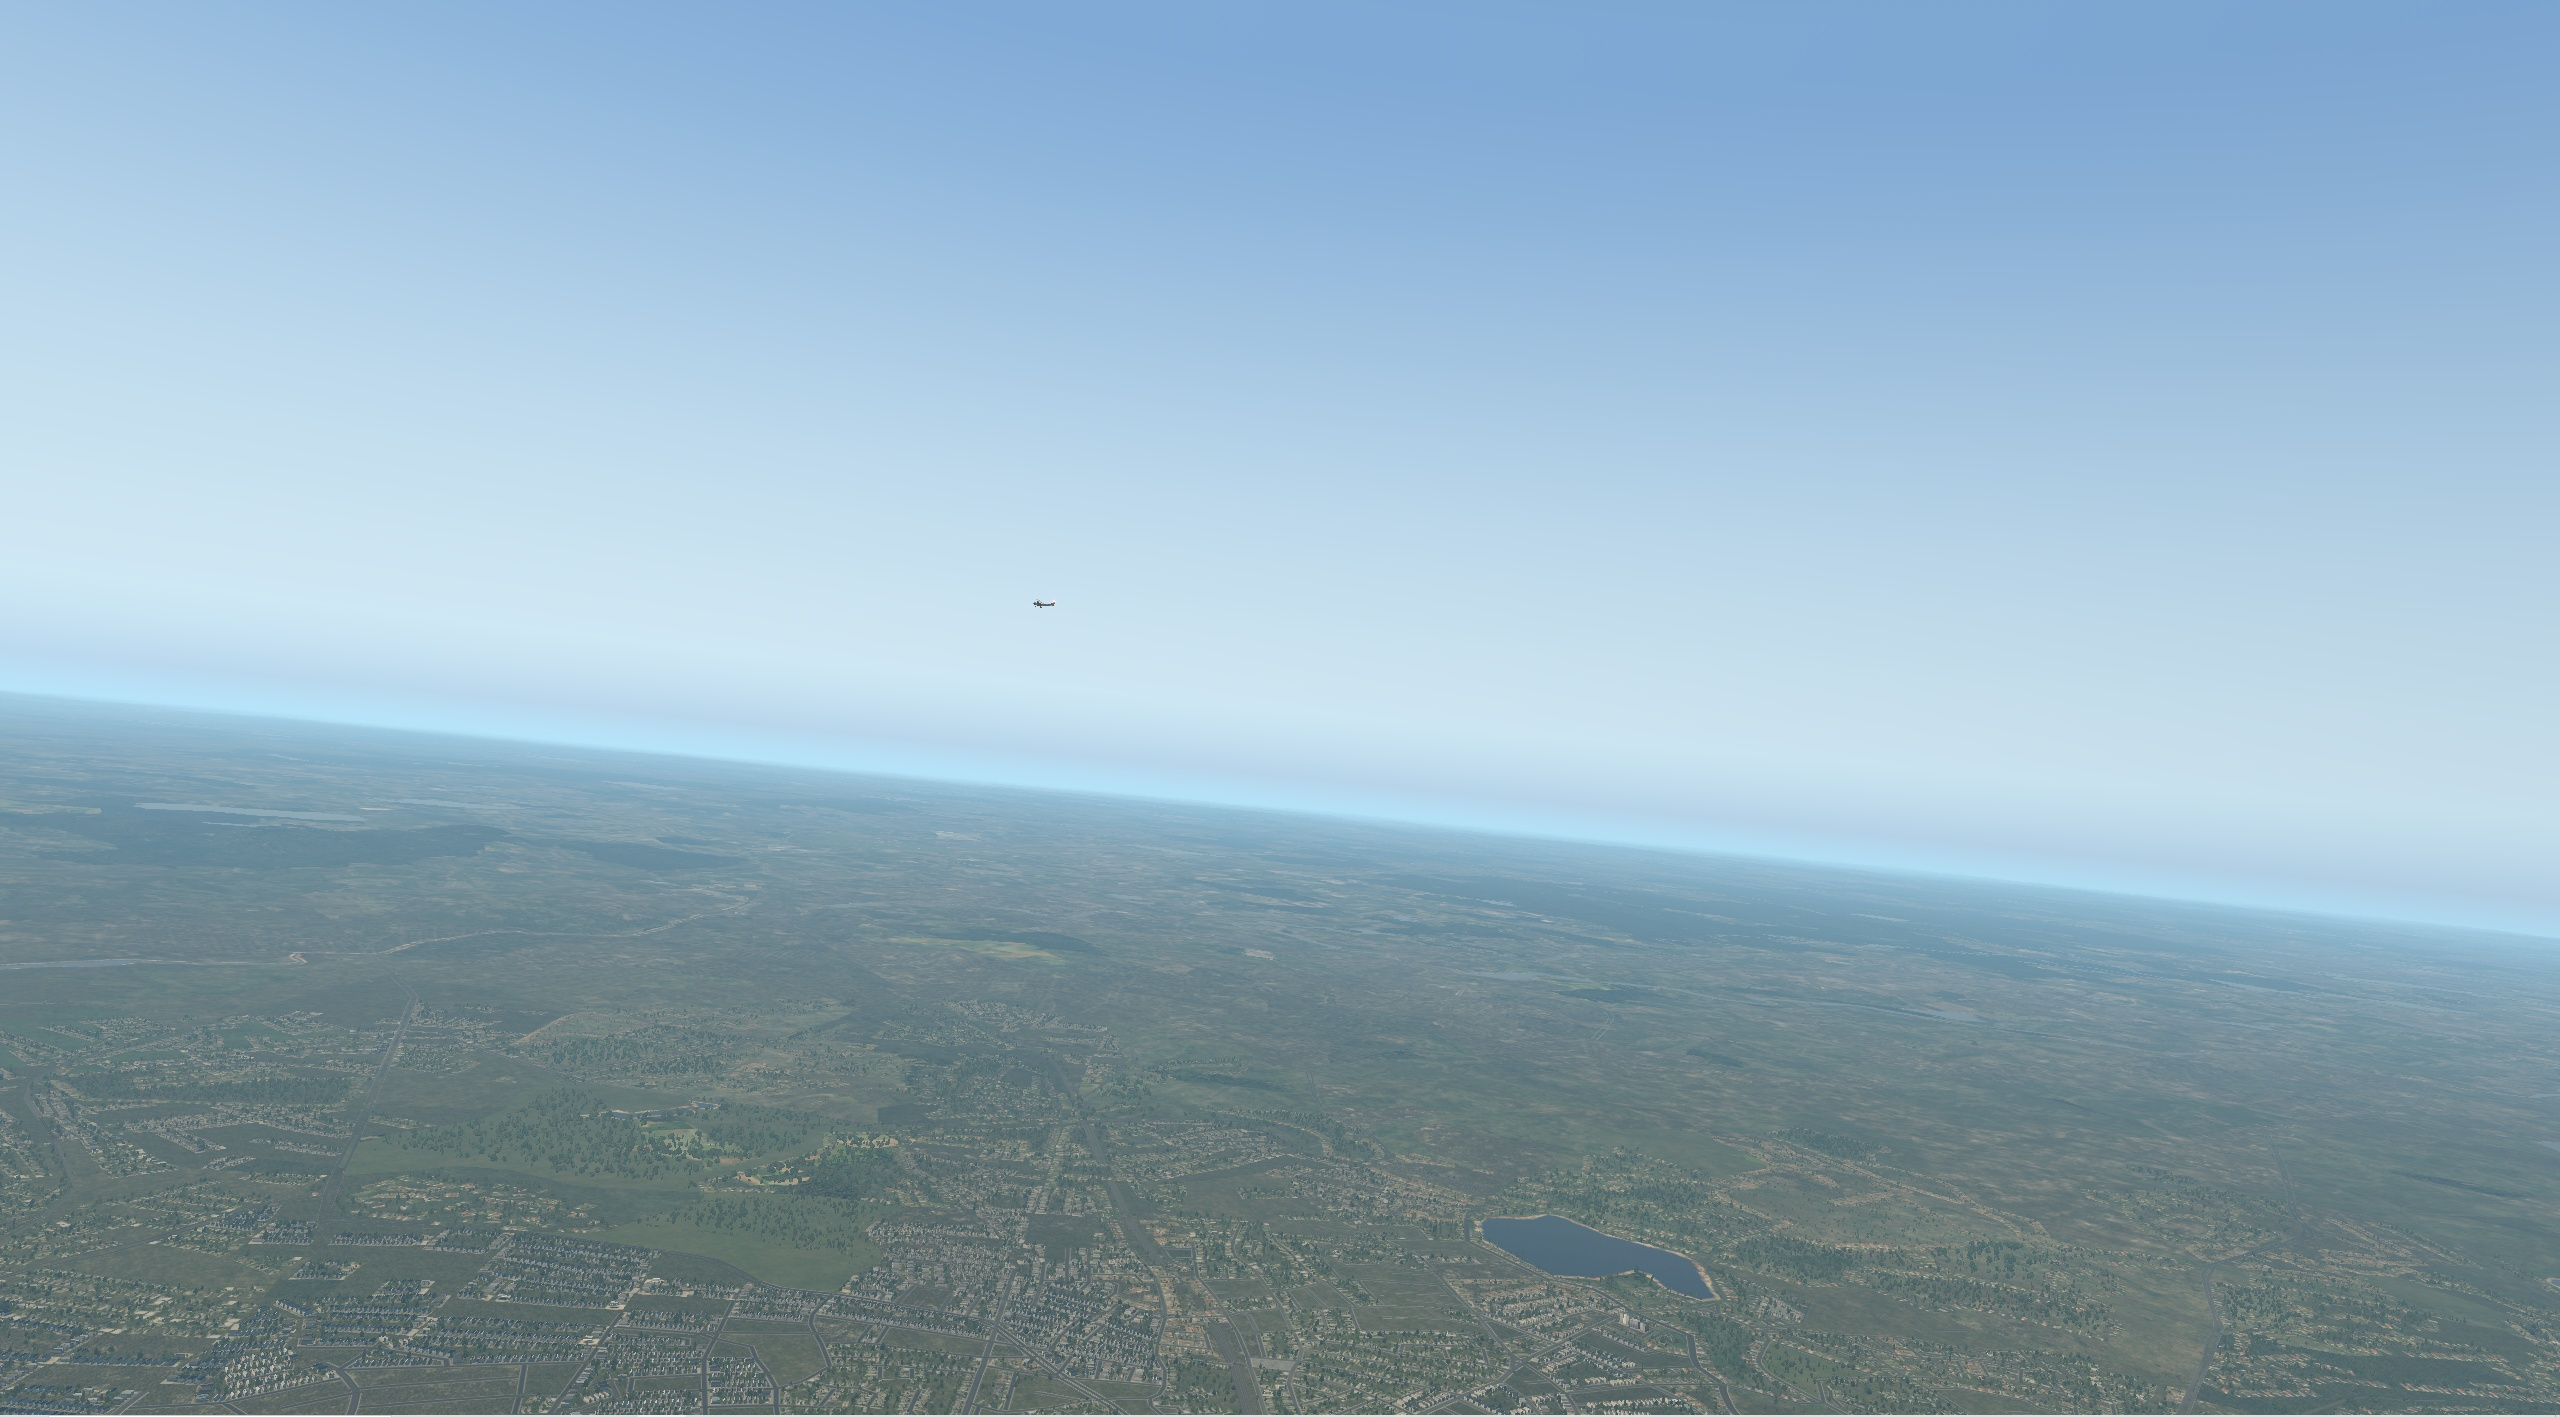aircraft: (1021, 597, 1058, 611)
